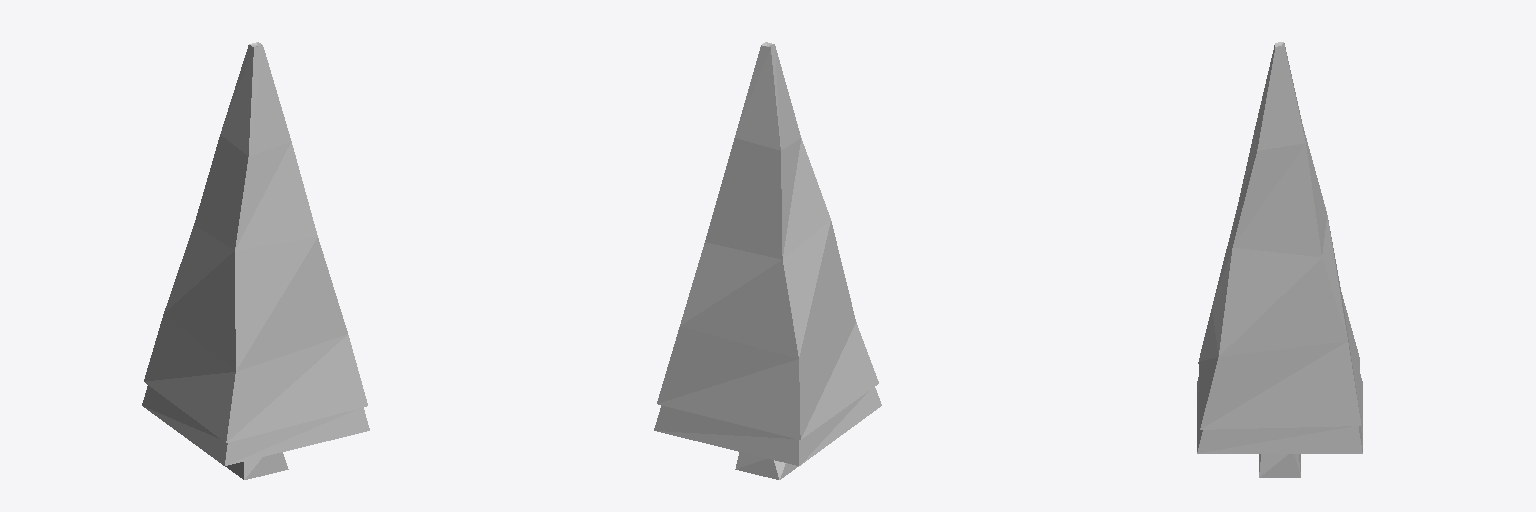
The model's file is Snowy Tree 4.obj.
3 views of the same model, side by side, from view 1: azimuth 30°, elevation 25°; view 2: azimuth 150°, elevation 25°; view 3: azimuth 270°, elevation 25° (orthographic).
Visible parts, largest first — view 1: Tree_4_Plane.013; view 2: Tree_4_Plane.013; view 3: Tree_4_Plane.013.
Boxes of the visible parts, box(x1,y1,x2,y2) form: Tree_4_Plane.013: box(142, 42, 369, 479); Tree_4_Plane.013: box(654, 42, 881, 479); Tree_4_Plane.013: box(1197, 42, 1362, 477).
Bounding box in the file's own units: 2.45 × 6.79 × 2.41.